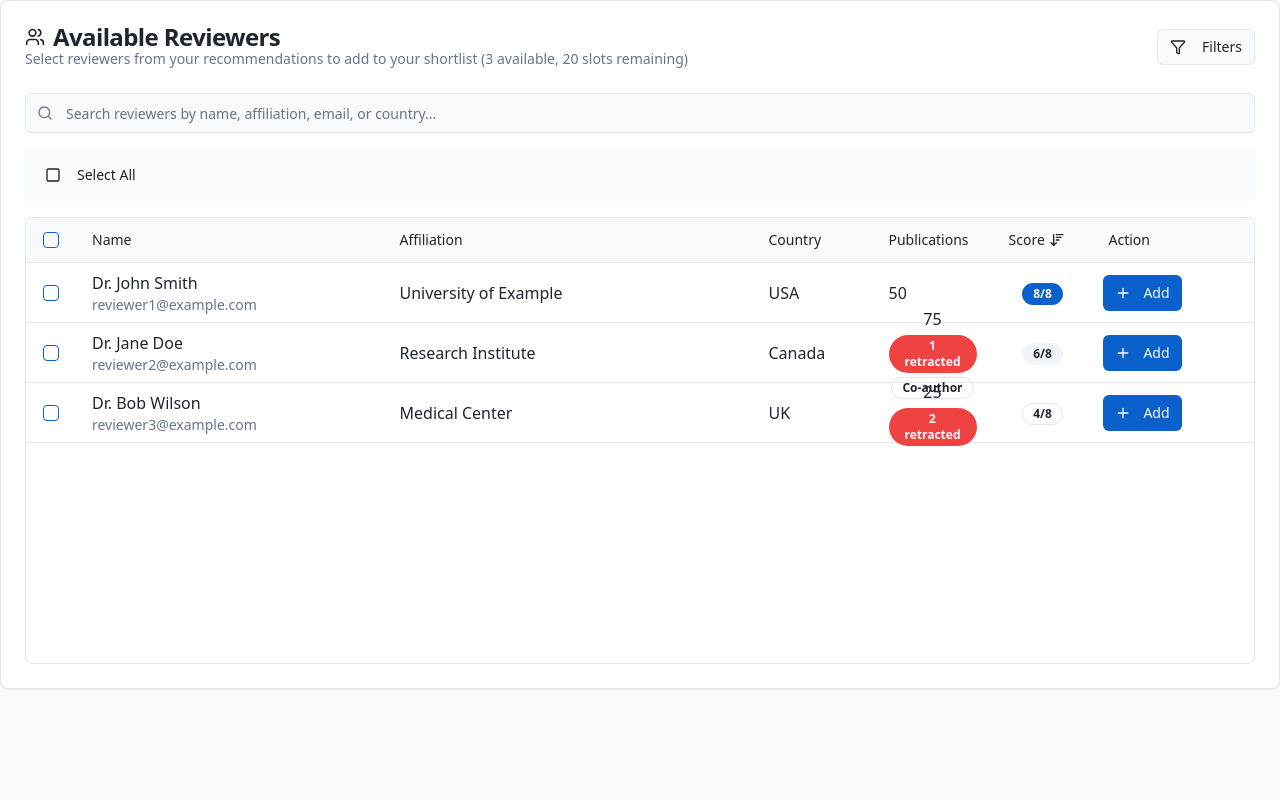
Test: ReviewerSelection › filters reviewers by minimum publications
The image size is (1280, 800).
// Open filters
Click the button "Filters" at (1206, 47), box left=1157, top=29, right=1255, bottom=65
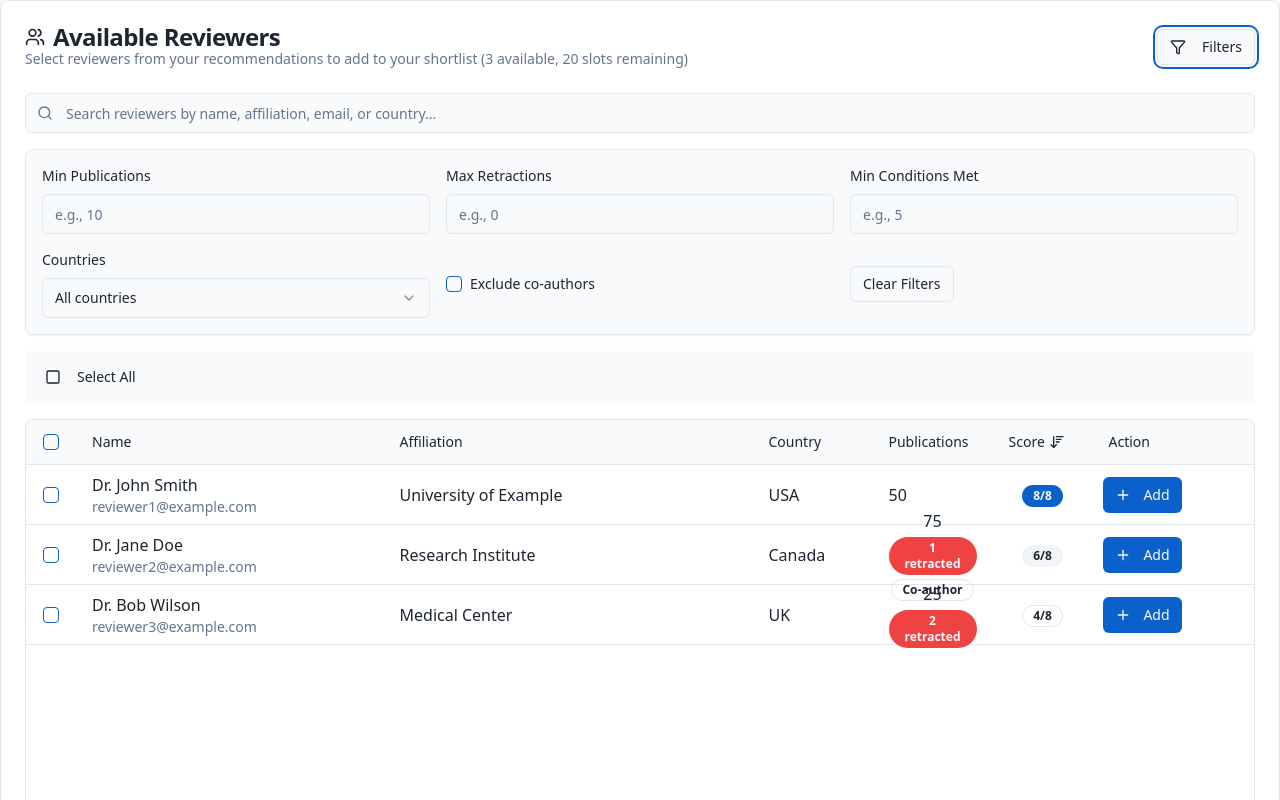
// Set minimum publications filter
Type "60" into the number field with placeholder "e.g., 10" at (236, 214), box left=42, top=194, right=430, bottom=234
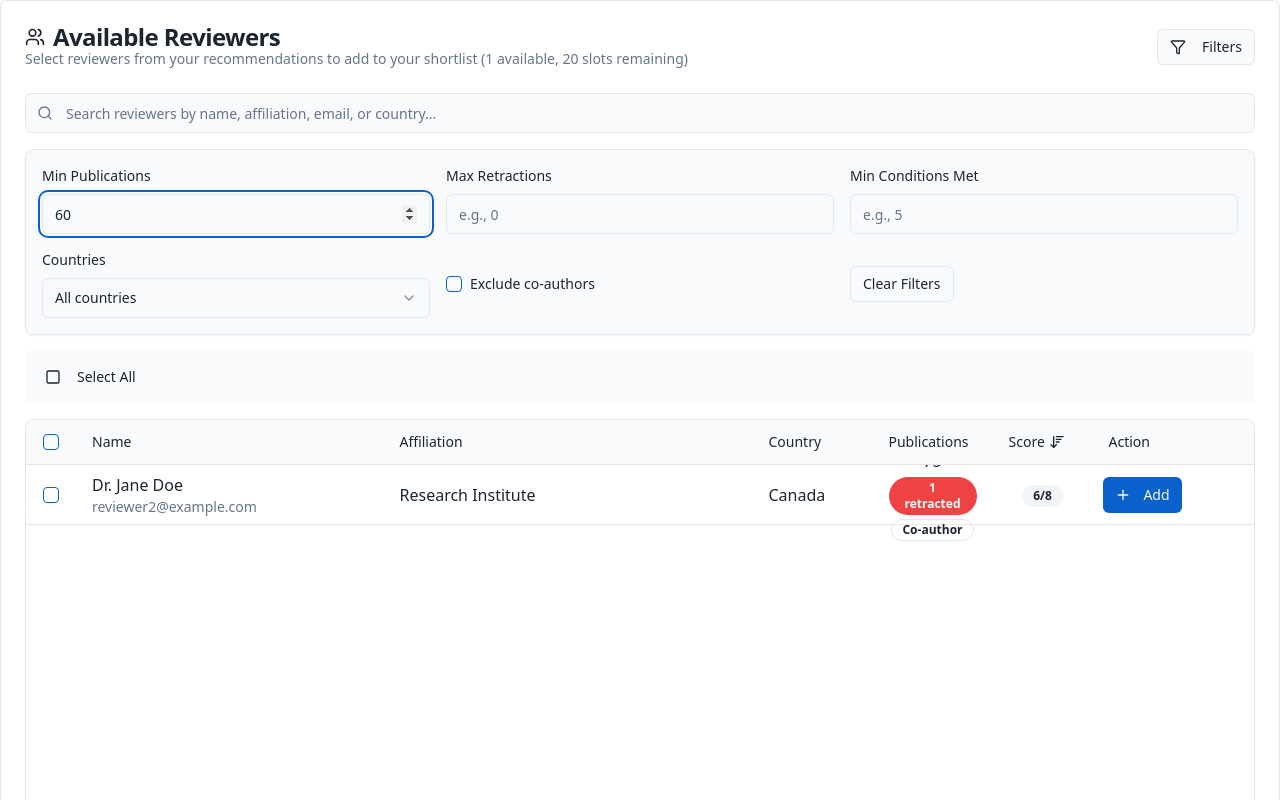
Expected: the text "Dr. Jane Doe" is shown, left=92, top=474, right=183, bottom=496
Expected: the text "Dr. John Smith" is gone
Expected: the text "Dr. Bob Wilson" is gone
